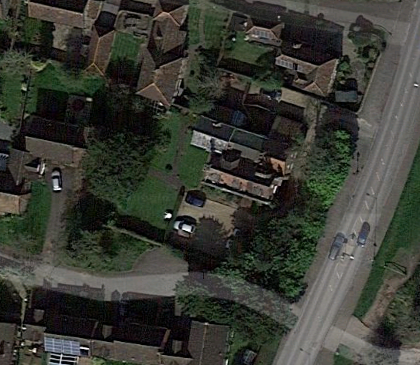tree: (72, 117, 168, 212), (66, 224, 124, 277)
